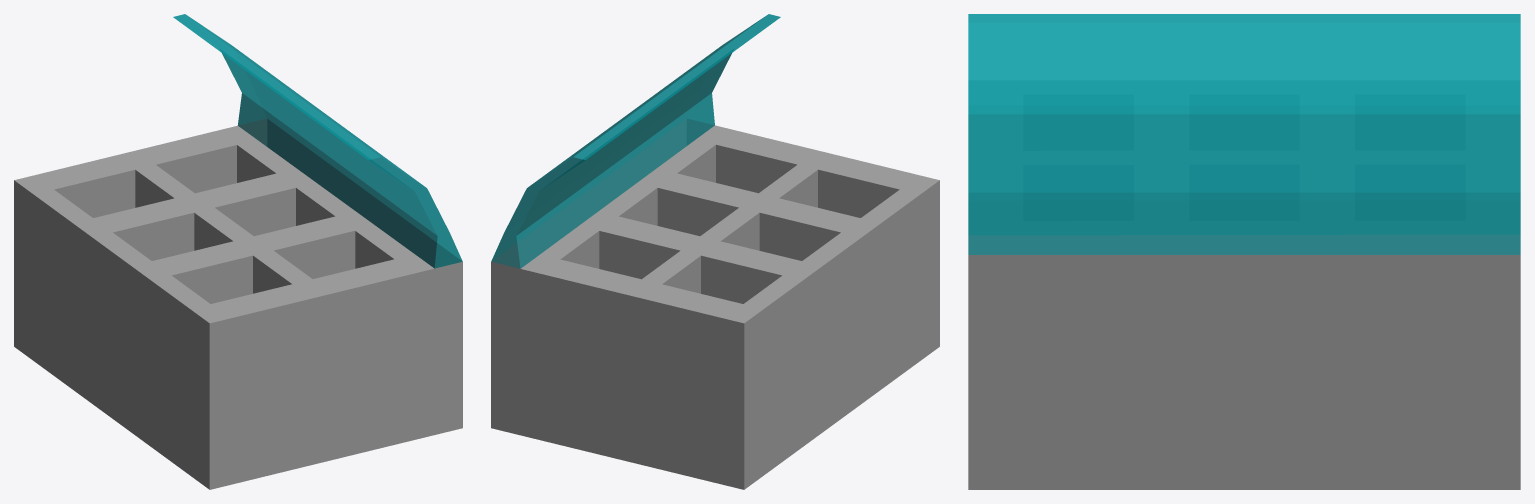
The model's file is fitrine2.fbx.
The picture shows the model from 3 angles, left to right: view 1: azimuth 30°, elevation 25°; view 2: azimuth 150°, elevation 25°; view 3: azimuth 270°, elevation 25°; orthographic projection. The views are drawn at different scales.
Parts seen in each view (by area): view 1: kantineKoeler; view 2: kantineKoeler; view 3: kantineKoeler.
Part boxes in pixels (bbox=[...]): kantineKoeler: bbox=[14, 14, 462, 489]; kantineKoeler: bbox=[491, 14, 939, 489]; kantineKoeler: bbox=[968, 14, 1520, 489].
Size of the model in its own units: 8.52 by 9.36 by 11.41.
